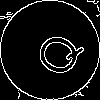Q: (25, 25, 86, 82)
